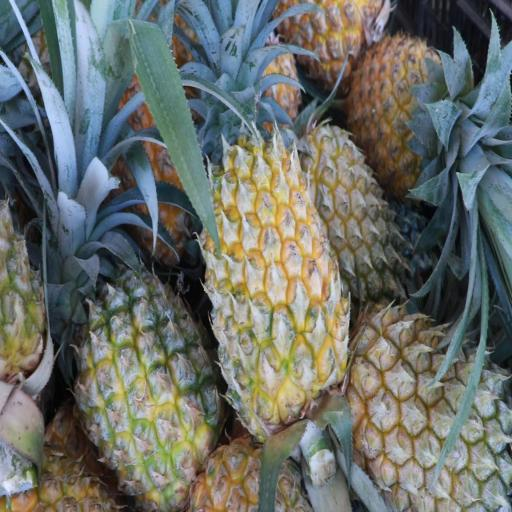Pineapple - v8 v1: (212, 144, 349, 432), (80, 271, 215, 498), (356, 38, 456, 186)
